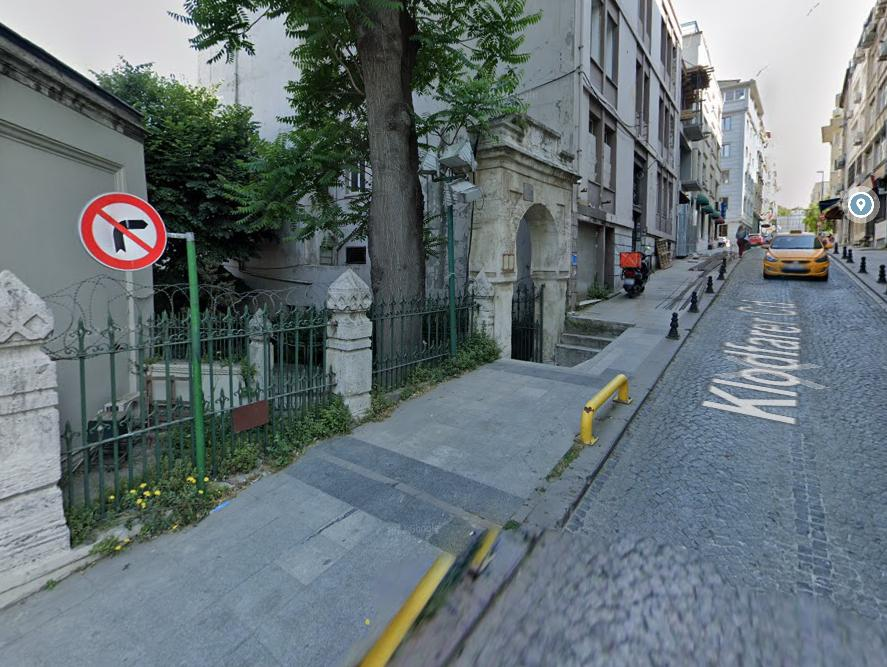rightturnsareforbidden: (77, 191, 167, 269)
